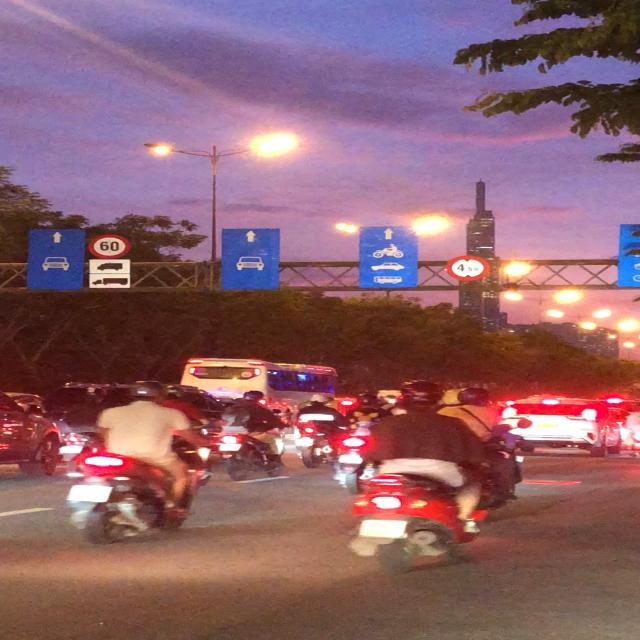Bien bao han che chieu cao: (445, 252, 492, 283)
Bien bao toc do toi da cho phep: (86, 232, 134, 260)
